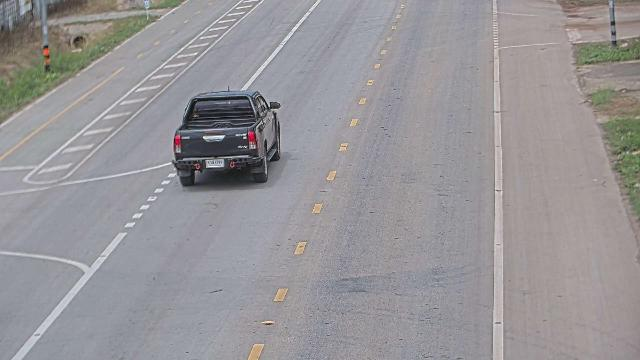pickup-truck: (171, 87, 282, 186)
